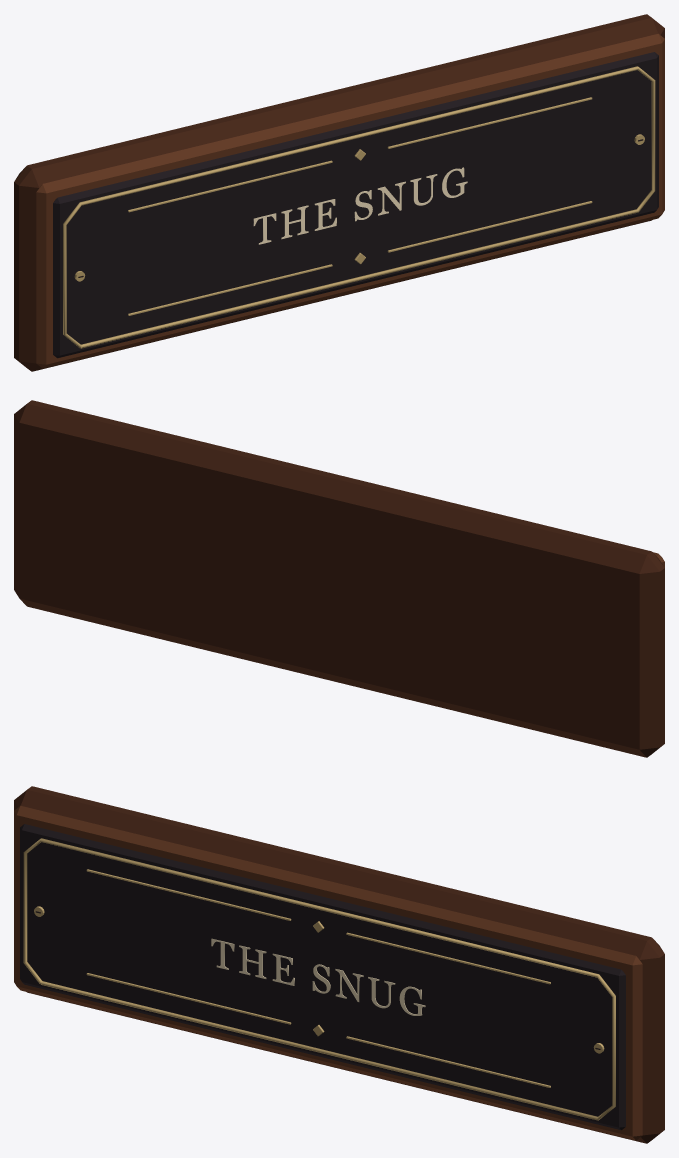
Rendered from SnugRoomSign.glb.
3 views of the same model, one above another, from view 1: azimuth 30°, elevation 25°; view 2: azimuth 150°, elevation 25°; view 3: azimuth 330°, elevation 25° (orthographic).
Parts seen in each view (by area): view 1: EnamelFace, BevelledOak, OakMoulding, GoldCartouche, Lettering_THE SNUG, GoldHairline.001, GoldHairline.003, GoldHairline.002, GoldHairline; view 2: BevelledOak; view 3: EnamelFace, BevelledOak, OakMoulding, GoldCartouche, Lettering_THE SNUG, GoldHairline, GoldHairline.002, GoldHairline.003, GoldHairline.001.
Boxes of the visible parts, x1,y1,x2,y2 form: EnamelFace: (53, 52, 658, 358); BevelledOak: (14, 14, 664, 371); OakMoulding: (36, 33, 664, 368); GoldCartouche: (63, 66, 655, 348); Lettering_THE SNUG: (253, 167, 467, 244); GoldHairline.001: (387, 201, 592, 252); GoldHairline.003: (387, 97, 592, 148); GoldHairline.002: (128, 160, 332, 212); GoldHairline: (128, 264, 332, 315); BevelledOak: (14, 400, 664, 757); EnamelFace: (20, 824, 625, 1130); BevelledOak: (14, 786, 664, 1143); OakMoulding: (14, 805, 642, 1140); GoldCartouche: (23, 838, 615, 1120); Lettering_THE SNUG: (211, 938, 425, 1015); GoldHairline: (86, 973, 291, 1024); GoldHairline.002: (86, 869, 291, 920); GoldHairline.003: (346, 932, 550, 984); GoldHairline.001: (346, 1036, 550, 1087).
Bounding box in the file's own units: 4.5 × 1.35 × 0.381.
